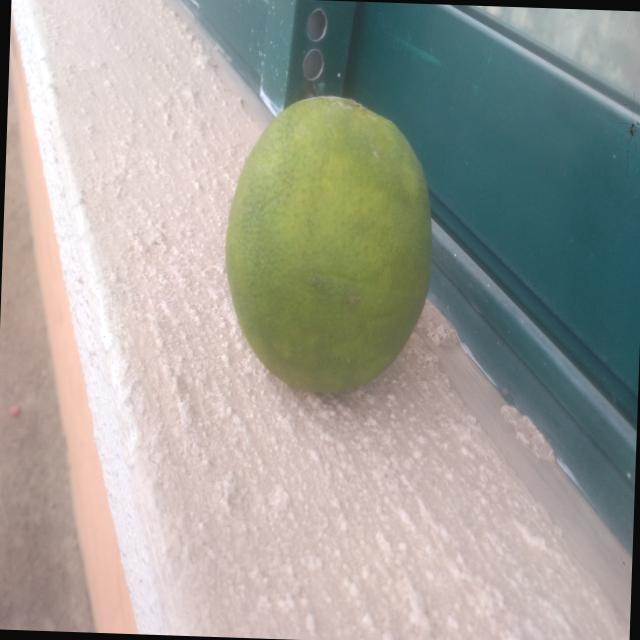agrume: (197, 77, 451, 416)
